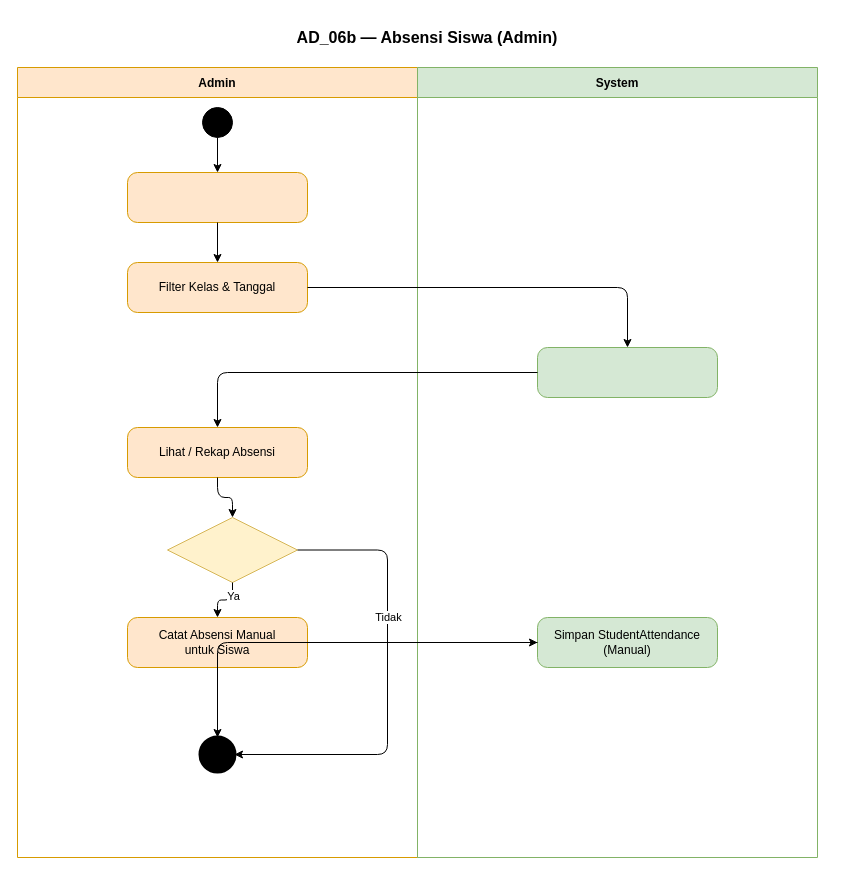
The diagram is 855 pixels wide and 875 high, and some of its shapes have lost their labels. Here are the shapes that lost their labels. From the top down, the centre of each, then its label:
At pixel 217 197: "Buka Absensi Siswa (Semua Kelas)".
At pixel 627 372: "Tampilkan Data Absensi Sesuai Filter".
At pixel 232 549: "Perlu Catat Manual?".
